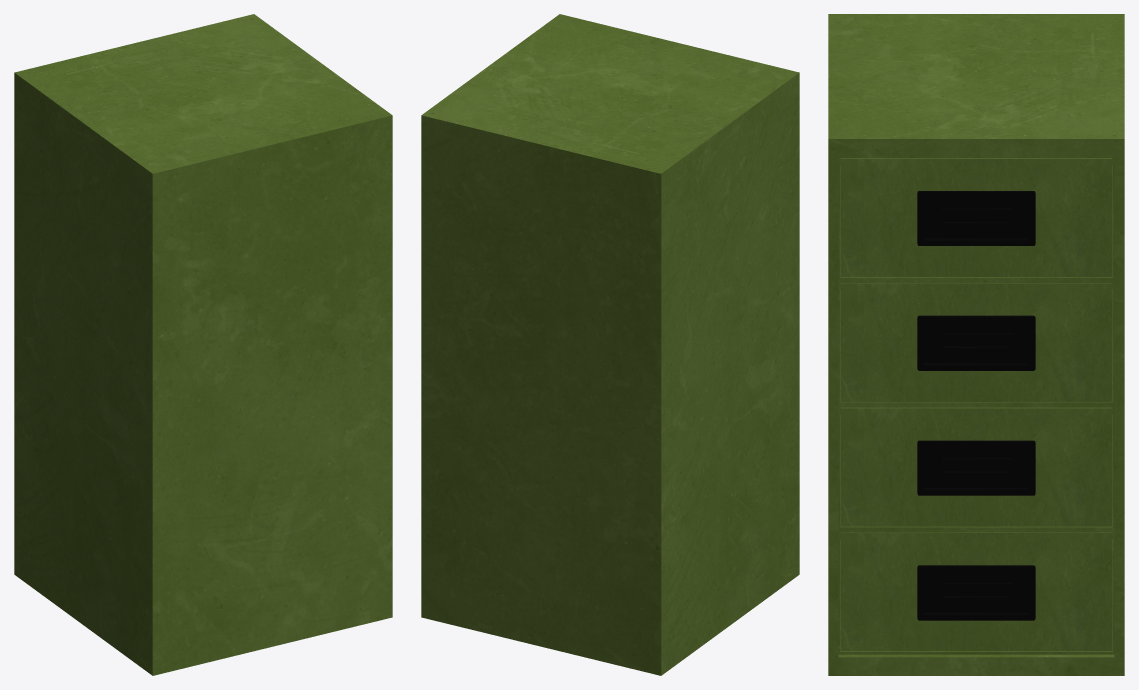
Rendered from green_filing_cabinet.obj.
The picture shows the model from 3 angles, left to right: view 1: azimuth 30°, elevation 25°; view 2: azimuth 150°, elevation 25°; view 3: azimuth 270°, elevation 25°; orthographic projection. The views are drawn at different scales.
Parts seen in each view (by area): view 1: green_filing_cabinet; view 2: green_filing_cabinet; view 3: green_filing_cabinet, drawer_2, drawer_1, drawer_4, drawer_3.
Part boxes in pixels (box(x1,y1,x2,y2)): green_filing_cabinet: box(14, 14, 392, 675); green_filing_cabinet: box(421, 14, 799, 675); green_filing_cabinet: box(828, 14, 1124, 675); drawer_2: box(840, 407, 1112, 526); drawer_1: box(840, 532, 1112, 651); drawer_4: box(840, 158, 1112, 276); drawer_3: box(840, 283, 1112, 401).
Bounding box in the file's own units: 0.5 × 1 × 0.5.
